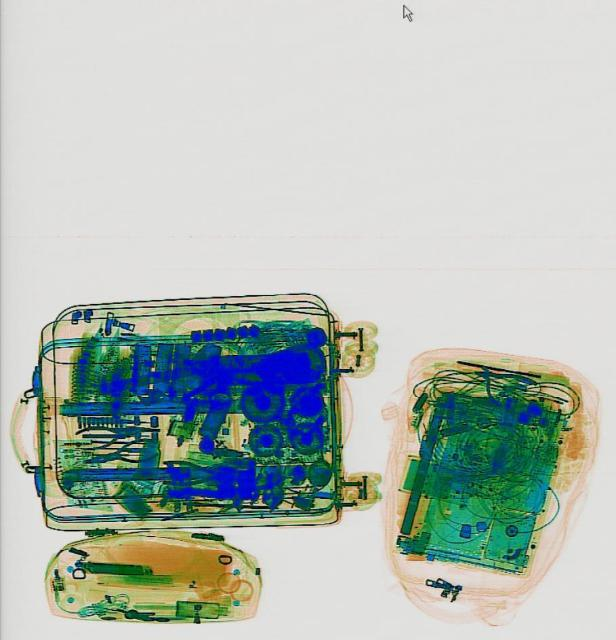Pliers: (462, 349, 538, 416), (77, 432, 158, 476), (70, 414, 146, 452), (158, 458, 226, 484)
